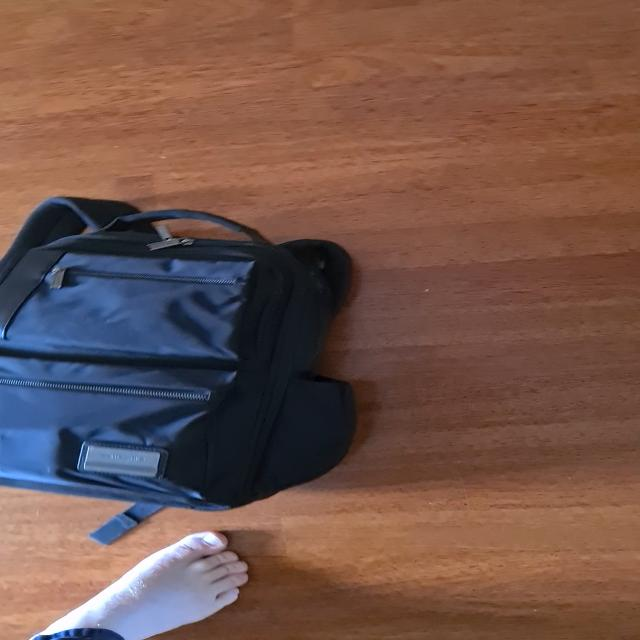backpack: (0, 187, 368, 521)
